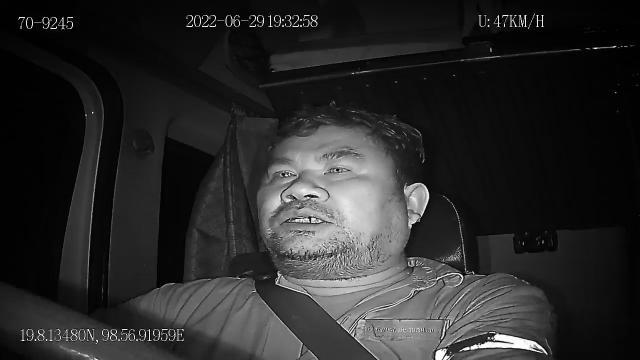SafeDriving: (318, 154, 360, 180), (263, 160, 300, 188)
Seatbelt: (253, 278, 381, 360)
